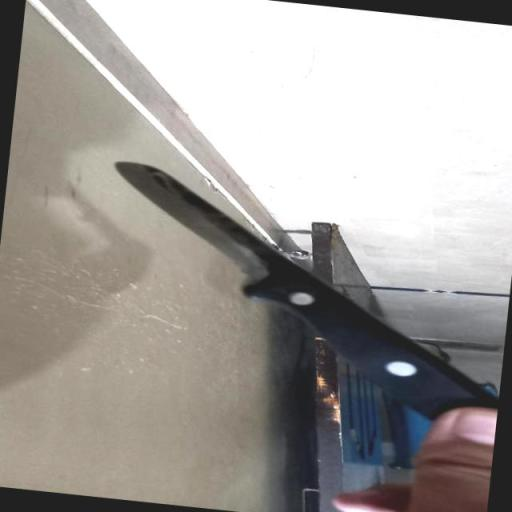knife: (86, 160, 512, 430)
